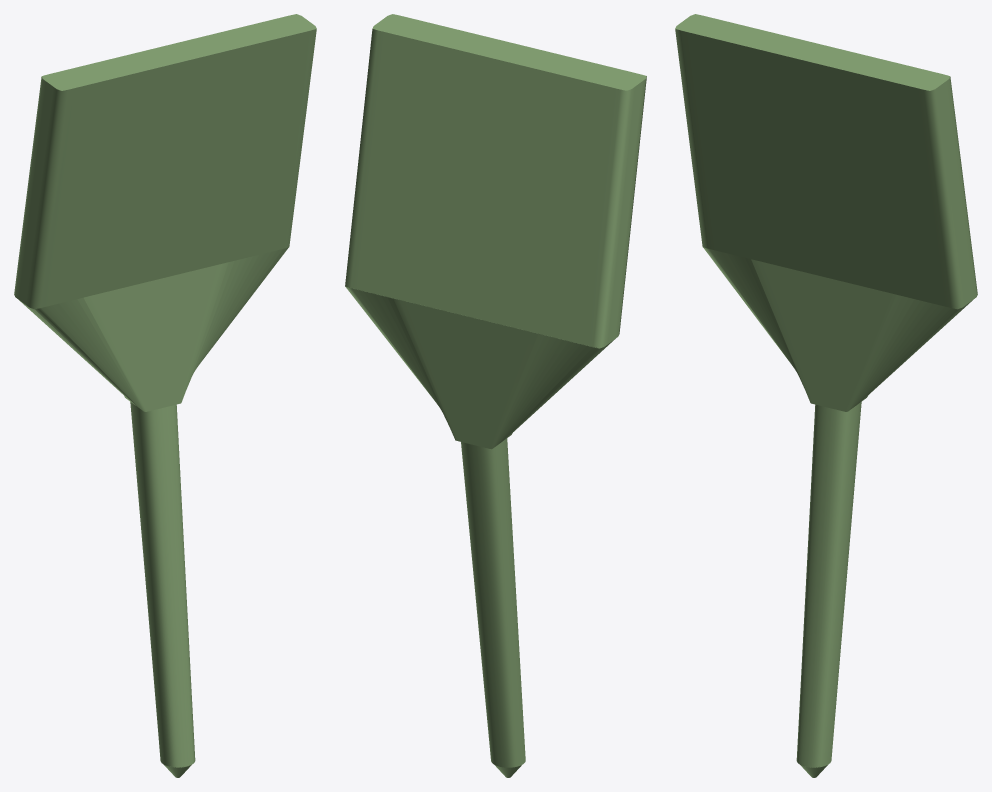
3 renders of one model, left to right at view 1: azimuth 30°, elevation 25°; view 2: azimuth 150°, elevation 25°; view 3: azimuth 330°, elevation 25°, orthographic.
Visible parts, largest first — view 1: shoulders, rounded_tip; view 2: shoulders, rounded_tip; view 3: shoulders, rounded_tip.
Boxes of the visible parts, x1,y1,x2,y2 form: shoulders: [14, 14, 316, 411]; rounded_tip: [130, 402, 195, 777]; shoulders: [345, 14, 646, 449]; rounded_tip: [461, 438, 525, 777]; shoulders: [675, 14, 977, 411]; rounded_tip: [796, 402, 861, 777].
Bounding box in the file's own units: 0.1115 × 0.2986 × 0.036.
